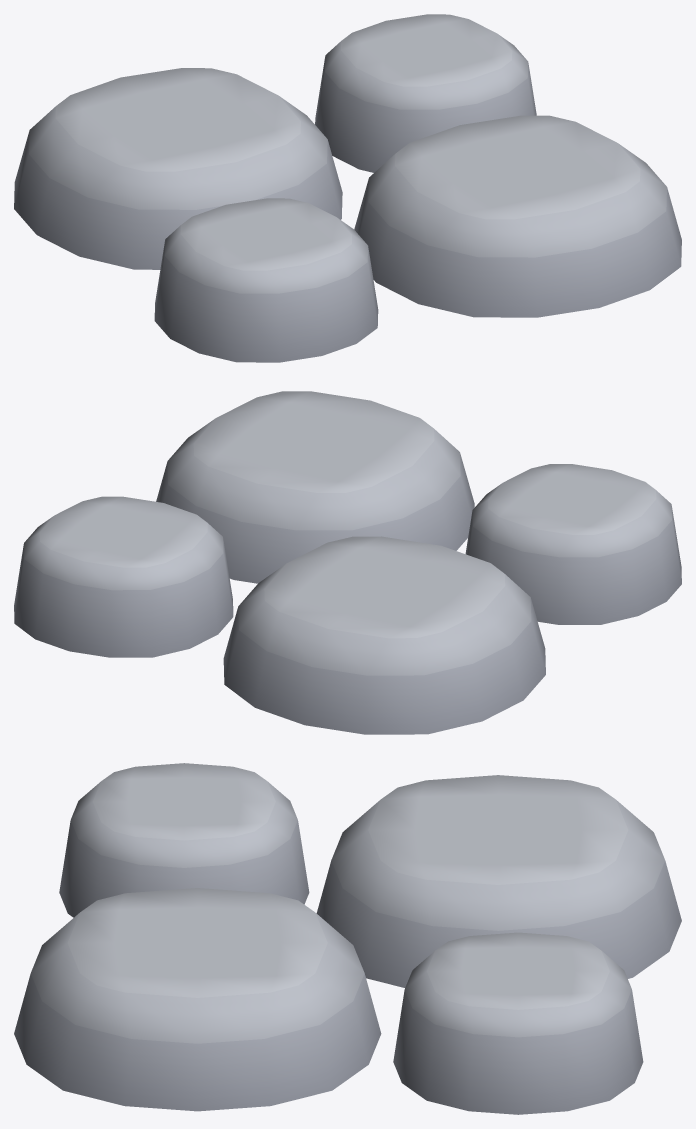
File: cobble_stones.fbx
The picture shows the model from 3 angles, top to bottom: view 1: azimuth 30°, elevation 25°; view 2: azimuth 150°, elevation 25°; view 3: azimuth 270°, elevation 25°; orthographic projection. The views are drawn at different scales.
Visible parts, largest first — view 1: cobble_stones; view 2: cobble_stones; view 3: cobble_stones.
Part boxes in pixels (x1=…): cobble_stones: x1=14, y1=14, x2=681, y2=362; cobble_stones: x1=14, y1=391, x2=681, y2=734; cobble_stones: x1=14, y1=763, x2=681, y2=1114.
Bounding box in the file's own units: 0.9744 × 0.15 × 1.
